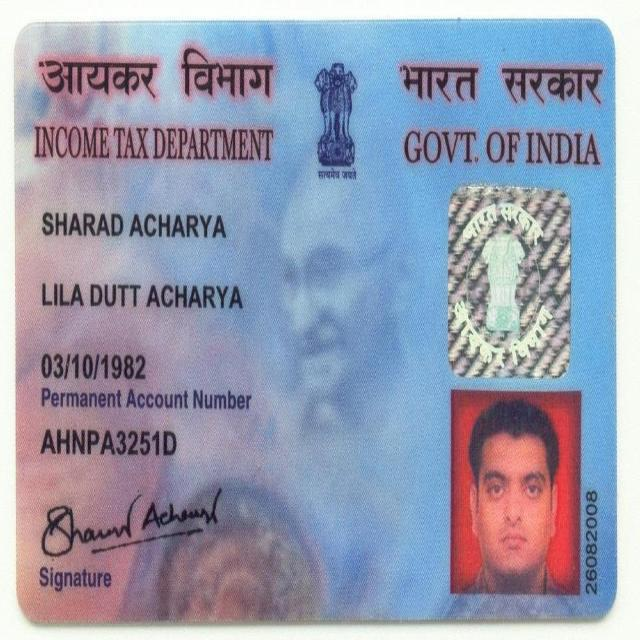pan_card: (16, 29, 613, 613)
